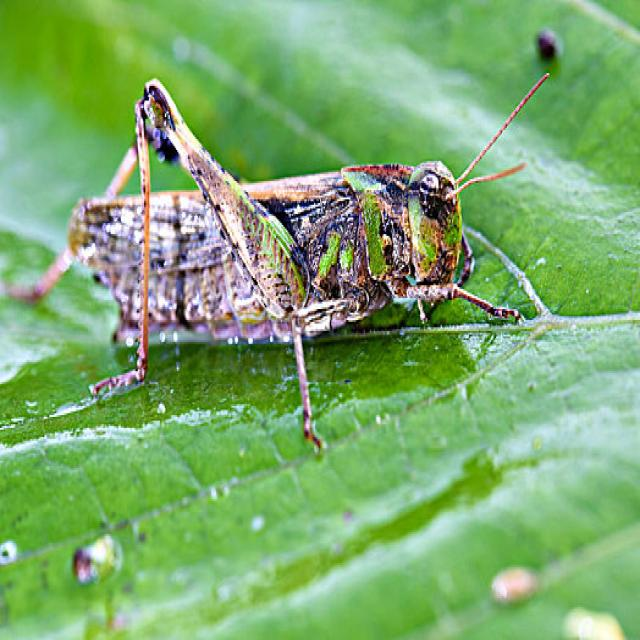ZhaMeng: (53, 76, 544, 355)
